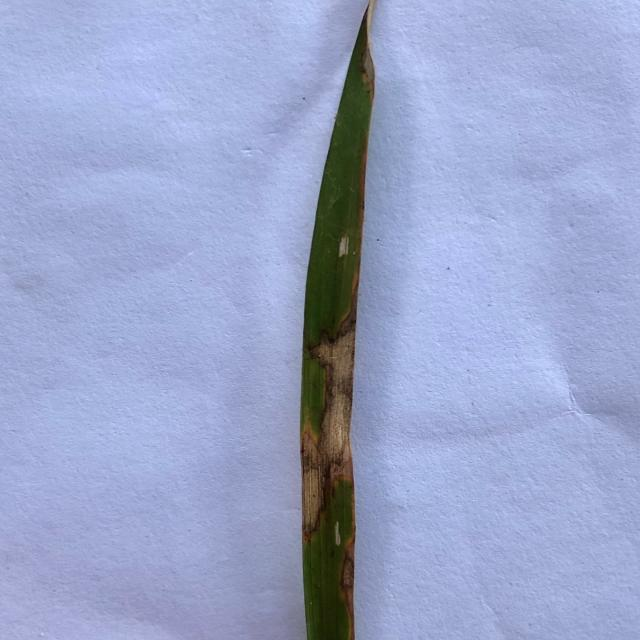Leaf Blight: (300, 254, 361, 640)
